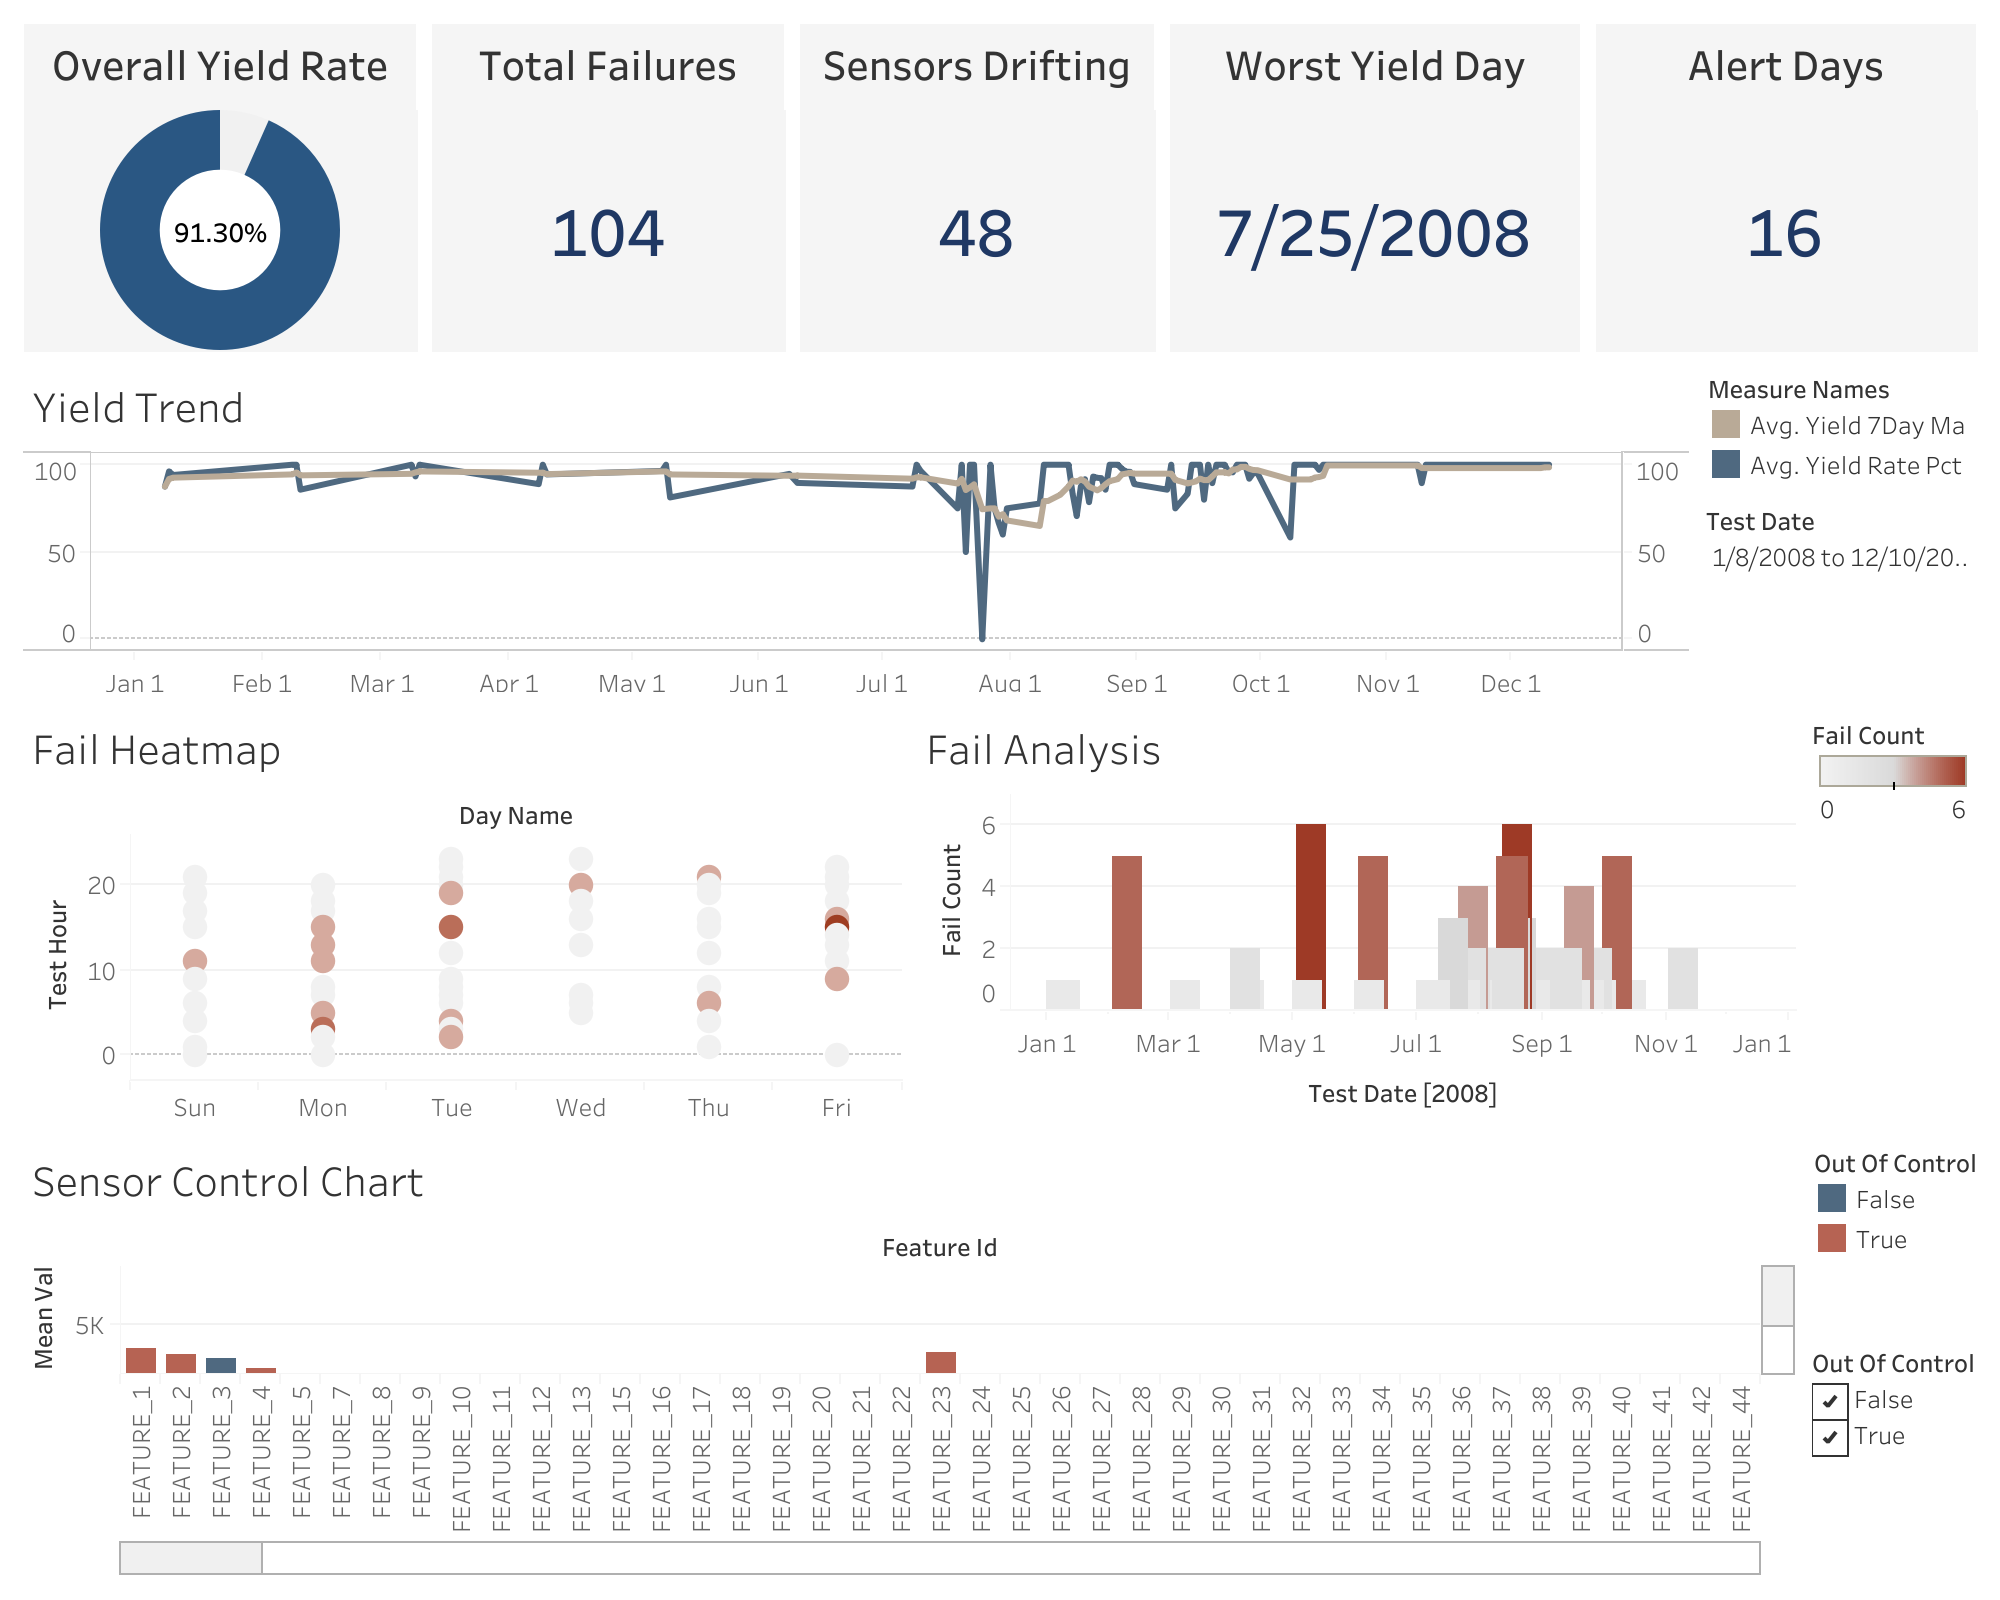

Layout of this report page (visuals, bound fields, positions):
{"tool":"tableau","page":{"name":"Dashboard","canvas":[1000,800],"ordinal":0},"visuals":[{"type":"worksheet","title":"Overall Yield Rate","mark":"Pie","cols":["Calculation_0014852595728416","Calculation_0014852595752994"],"box":[8,8,204,171]},{"type":"worksheet","title":"Total Failures","mark":"Text","box":[212,8,184.1,171]},{"type":"worksheet","title":"Sensors Drifting","mark":"Text","box":[396.1,8,185.1,171]},{"type":"worksheet","title":"Worst Yield Day","mark":"Text","box":[581.2,8,212.6,171]},{"type":"worksheet","title":"Alert Days","mark":"Text","box":[793.8,8,198.2,171]},{"type":"worksheet","title":"Yield Trend","mark":"Line","rows":["YIELD_RATE_PCT","YIELD_7DAY_MA"],"cols":["TEST_DATE"],"box":[8,179,841,171]},{"type":"legend","title":"Yield Trend","param":"[federated.1m4zxq40o5hxp31er0s66007k4xw].[:Measure Names]","box":[849,179,143,67]},{"type":"filter","title":"Yield Trend","param":"[federated.1m4zxq40o5hxp31er0s66007k4xw].[none:TEST_DATE:qk]","box":[849,246,143,70]},{"type":"worksheet","title":"Fail Heatmap","mark":"Circle","rows":["TEST_HOUR"],"cols":["Calculation_0001109447593985"],"box":[8,350,447,216]},{"type":"worksheet","title":"Fail Analysis","mark":"Bar","rows":["FAIL_COUNT"],"cols":["TEST_DATE"],"box":[455,350,447,216]},{"type":"legend","title":"Fail Analysis","param":"[federated.1m4zxq40o5hxp31er0s66007k4xw].[sum:FAIL_COUNT:qk]","box":[902,350,90,216]},{"type":"worksheet","title":"Sensor Control Chart","mark":"Bar","rows":["MEAN_VAL"],"cols":["FEATURE_ID"],"box":[8,566,894,226]},{"type":"legend","title":"Sensor Control Chart","param":"[federated.1xhcn9m09lmx2s1902boc1uyn15k].[none:OUT_OF_CONTROL:nk]","box":[902,566,90,101]},{"type":"filter","title":"Sensor Control Chart","param":"[federated.1xhcn9m09lmx2s1902boc1uyn15k].[none:OUT_OF_CONTROL:nk]","box":[902,667,90,125]}]}

Visuals, with their boxes in screenshot pixels (x1, y1, x2, y2), scaled from the page's 1000x800 canvas onto the 2000x1600 screenshot:
"Overall Yield Rate" worksheet (Pie marks): {"left": 16, "top": 16, "right": 424, "bottom": 358}
"Total Failures" worksheet (Text marks): {"left": 424, "top": 16, "right": 792, "bottom": 358}
"Sensors Drifting" worksheet (Text marks): {"left": 792, "top": 16, "right": 1162, "bottom": 358}
"Worst Yield Day" worksheet (Text marks): {"left": 1162, "top": 16, "right": 1588, "bottom": 358}
"Alert Days" worksheet (Text marks): {"left": 1588, "top": 16, "right": 1984, "bottom": 358}
"Yield Trend" worksheet (Line marks): {"left": 16, "top": 358, "right": 1698, "bottom": 700}
"Yield Trend" legend: {"left": 1698, "top": 358, "right": 1984, "bottom": 492}
"Yield Trend" filter: {"left": 1698, "top": 492, "right": 1984, "bottom": 632}
"Fail Heatmap" worksheet (Circle marks): {"left": 16, "top": 700, "right": 910, "bottom": 1132}
"Fail Analysis" worksheet (Bar marks): {"left": 910, "top": 700, "right": 1804, "bottom": 1132}
"Fail Analysis" legend: {"left": 1804, "top": 700, "right": 1984, "bottom": 1132}
"Sensor Control Chart" worksheet (Bar marks): {"left": 16, "top": 1132, "right": 1804, "bottom": 1584}
"Sensor Control Chart" legend: {"left": 1804, "top": 1132, "right": 1984, "bottom": 1334}
"Sensor Control Chart" filter: {"left": 1804, "top": 1334, "right": 1984, "bottom": 1584}
